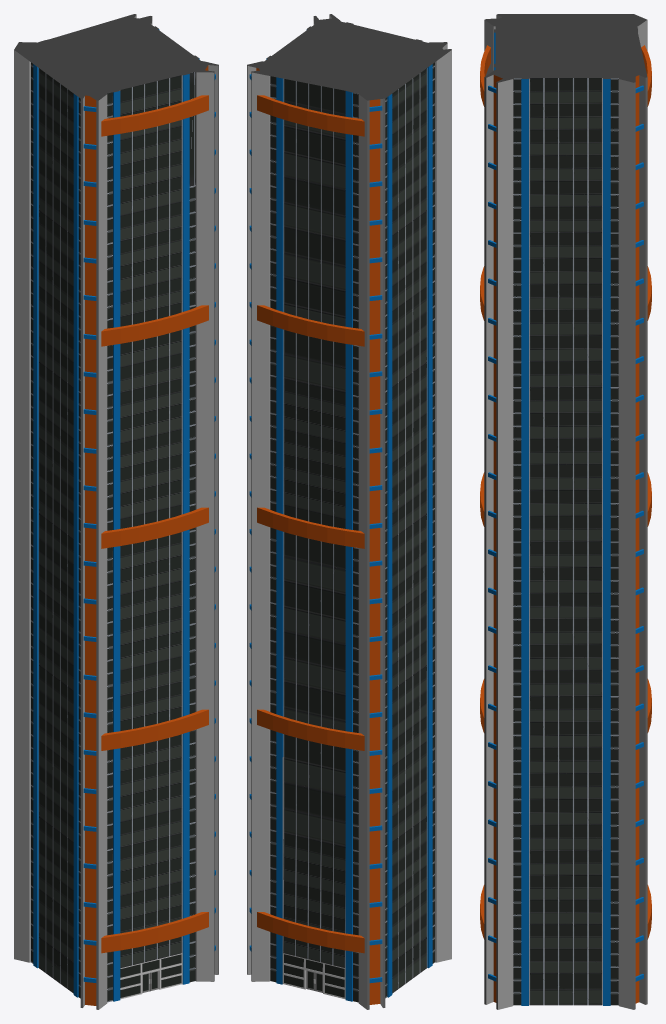
The picture shows the model from 3 angles, left to right: view 1: azimuth 30°, elevation 25°; view 2: azimuth 150°, elevation 25°; view 3: azimuth 270°, elevation 25°; orthographic projection.
Parts seen in each view (by area): view 1: EC-09; view 2: EC-09; view 3: EC-09.
Boxes of the visible parts, left/top/right/bottom form: EC-09: left=14, top=14, right=218, bottom=1009; EC-09: left=247, top=14, right=451, bottom=1009; EC-09: left=480, top=14, right=651, bottom=1009.
Size of what is drawn, in the model's own units: 18.62 by 117 by 19.63.
